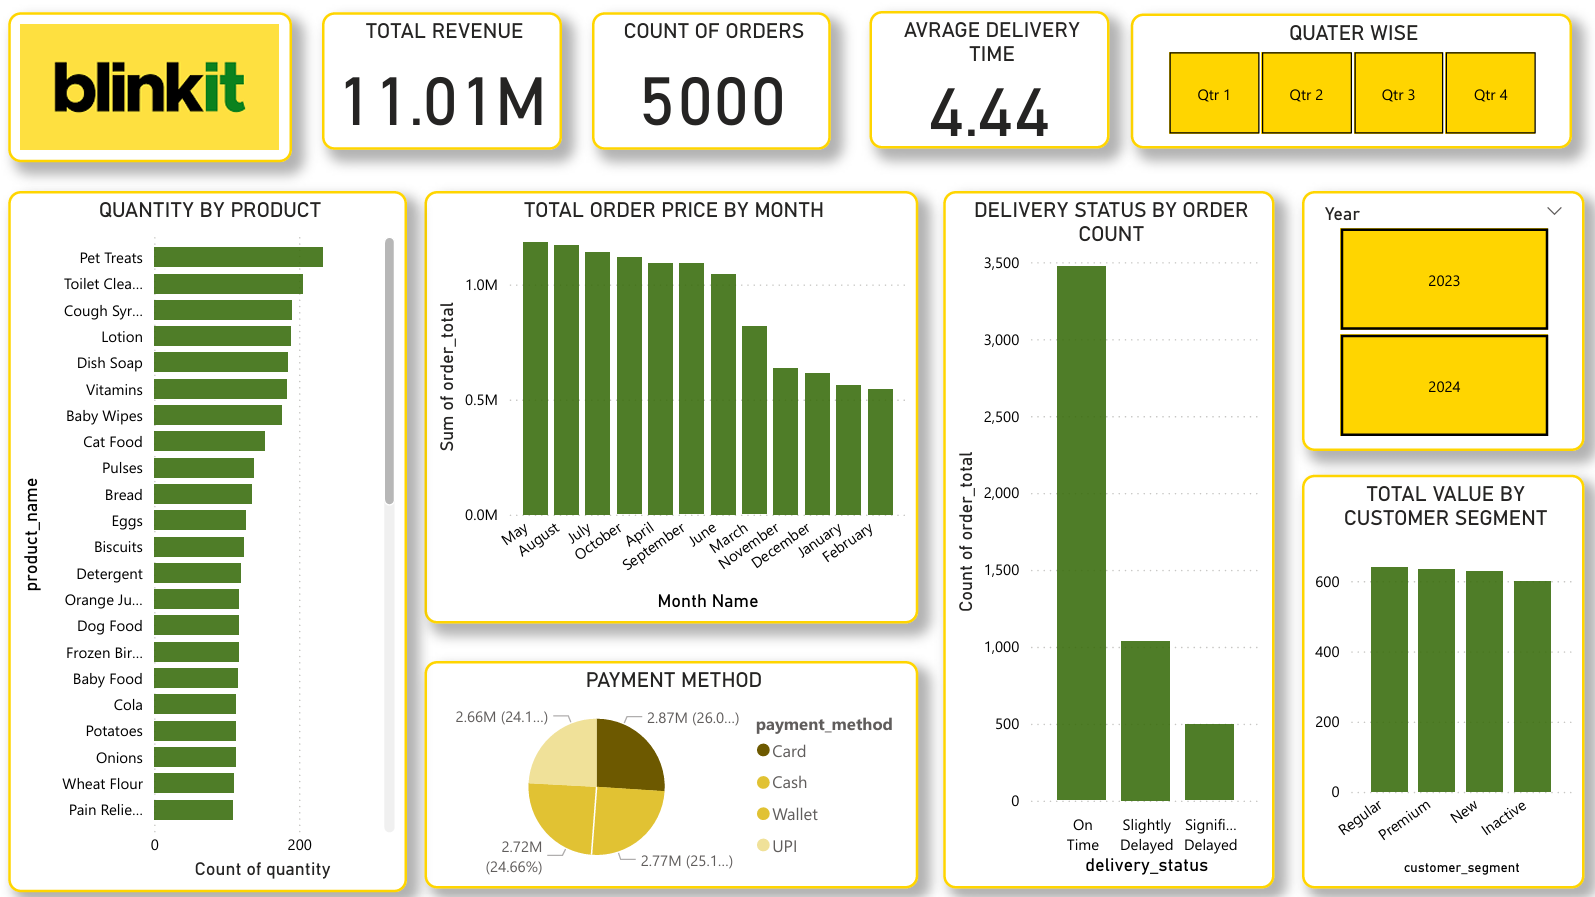

What the dashboard file says about the page in this screenshot:
{"tool":"powerbi","page":{"name":"Page 1","canvas":[1280,720],"ordinal":0},"visuals":[{"type":"card","title":"TOTAL REVENUE","fields":{"Values":["Measure Table.total_revenue"]},"box":[555.8,14,250,109.3],"z":0},{"type":"areaChart","title":"REVENUE BY YEAR","fields":{"Category":["blinkit_orders.order_date.Variation.Date Hierarchy.Year","blinkit_orders.order_date.Variation.Date Hierarchy.Month"],"Y":["blinkit_orders.order_total"]},"box":[341.9,152.3,493,190.7],"z":2000},{"type":"barChart","title":"QUANTITY BY PRODUCT (Top 10)","fields":{"Category":["blinkit_order_items.product_name"],"Y":["blinkit_order_items.quantity"]},"box":[16.3,379.1,301.2,331.4],"z":3000},{"type":"donutChart","title":"DELIVERY STATUS BY ORDER COUNT","fields":{"Category":["blinkit_orders.delivery_status"],"Y":["blinkit_orders.order_total"]},"box":[862.8,152.3,390.7,190.7],"z":4000},{"type":"slicer","title":"QUATER WISE","fields":{"Values":["blinkit_orders.order_date.Variation.Date Hierarchy.Quarter"]},"box":[16.3,289.5,301.2,70.9],"z":5000},{"type":"card","title":"COUNT OF ORDERS","fields":{"Values":["Measure Table.total_orders"]},"box":[834.9,14,191.9,108.1],"z":6000},{"type":"card","title":"AVRAGE DELIVERY TIME ","fields":{"Values":["Measure Table.Avrage delivery time"]},"box":[1058.1,14,195.3,108.1],"z":7000},{"type":"slicer","fields":{"Values":["blinkit_orders.order_date.Variation.Date Hierarchy.Year"]},"box":[16.3,152.3,301.2,119.8],"z":8000},{"type":"pivotTable","title":"TOP 10 CUSTOMERS","fields":{"Rows":["blinkit_customers.customer_name"],"Values":["Measure Table.total_revenue"]},"box":[339.5,379.1,287.2,331.4],"z":9000},{"type":"columnChart","title":"REVENUE BY CATEGORY","fields":{"Category":["blinkit_products.category"],"Y":["blinkit_orders.order_total"]},"box":[639.5,379.1,630.2,331.4],"z":10000},{"type":"textbox","box":[16.3,14,523.3,119.8],"z":11000}]}

Visuals, with their boxes in screenshot pixels (x1, y1, x2, y2), scaled from the page's 1280x720 canvas onto the 1595x897 screenshot:
"TOTAL REVENUE" card: (693,17,1004,154)
"REVENUE BY YEAR" areaChart: (426,190,1040,427)
"QUANTITY BY PRODUCT (Top 10)" barChart: (20,472,396,885)
"DELIVERY STATUS BY ORDER COUNT" donutChart: (1075,190,1562,427)
"QUATER WISE" slicer: (20,361,396,449)
"COUNT OF ORDERS" card: (1040,17,1279,152)
"AVRAGE DELIVERY TIME " card: (1318,17,1562,152)
slicer - blinkit_orders.order_date.Variation.Date Hierarchy.Year: (20,190,396,339)
"TOP 10 CUSTOMERS" pivotTable: (423,472,781,885)
"REVENUE BY CATEGORY" columnChart: (797,472,1582,885)
textbox: (20,17,672,167)
